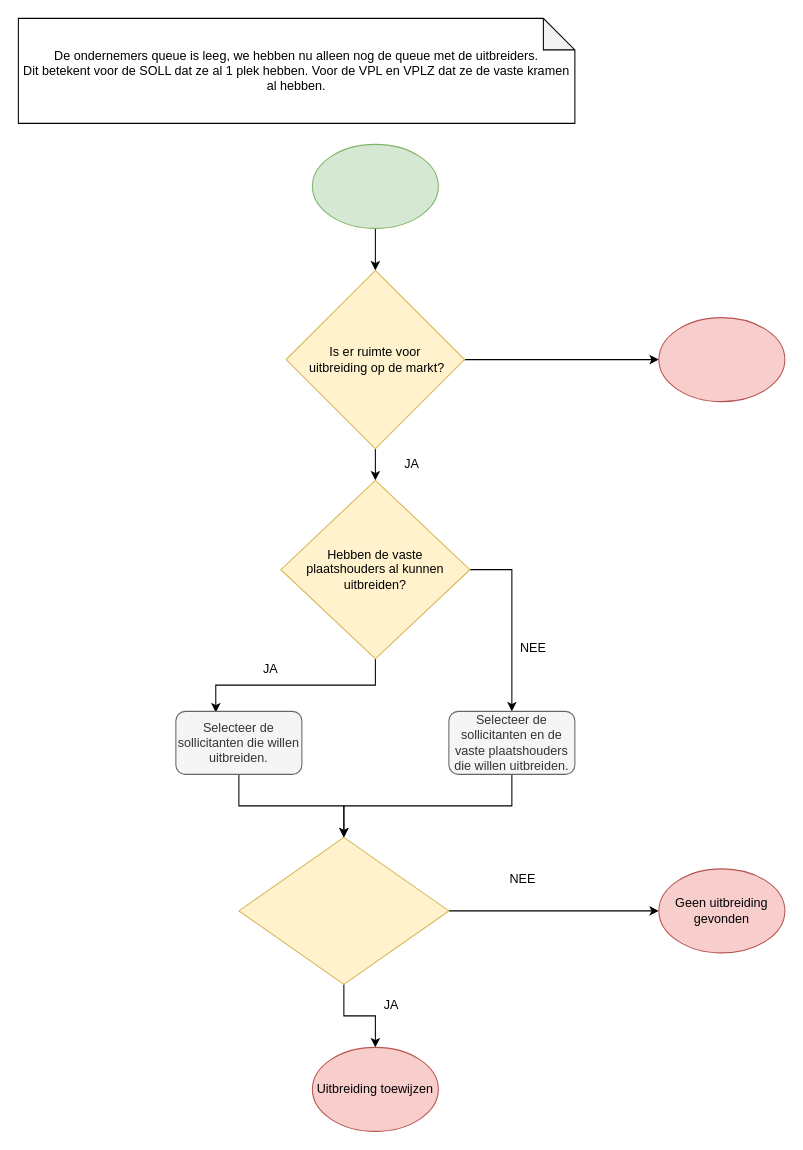
This 803x1150 diagram has some shape labels left out. The box of each missing label's shape, as (x1, y1, x2, y2) in pixels:
Is er een aansluitende plaats te vinden?: (238, 836, 449, 984)
Markt is vol, geen uitbreidingen: (658, 317, 785, 402)
Uitbreidings fase: (311, 143, 438, 228)
